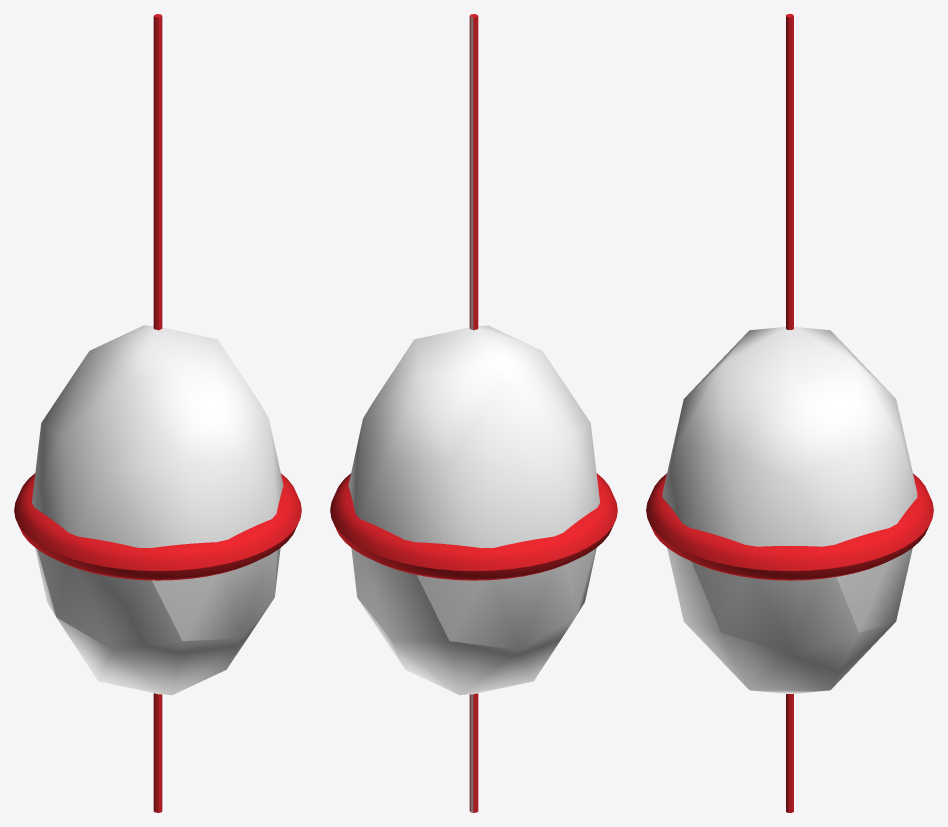
The picture shows the model from 3 angles, left to right: view 1: azimuth 30°, elevation 25°; view 2: azimuth 150°, elevation 25°; view 3: azimuth 270°, elevation 25°; orthographic projection.
Visible parts, largest first — view 1: Plane; view 2: Plane; view 3: Plane.
Boxes of the visible parts, <box> form: Plane: <box>14,14,301,812</box>; Plane: <box>330,14,617,812</box>; Plane: <box>646,14,933,812</box>.
Size of the model in its own units: 219 by 669 by 219.
